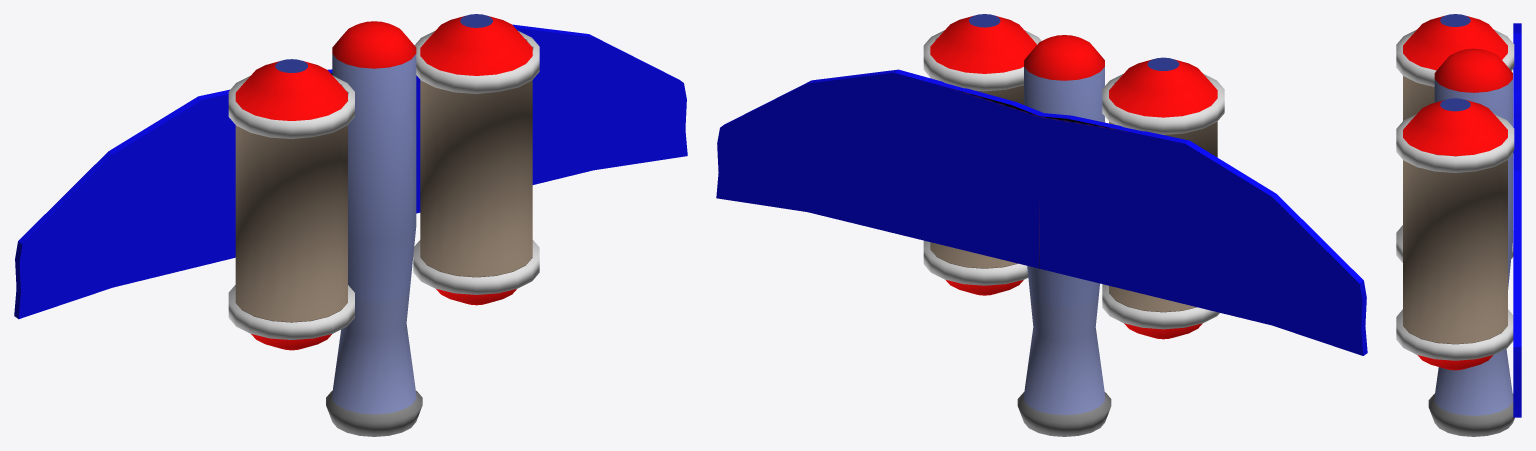
File: JetPack.FBX
3 views of the same model, side by side, from view 1: azimuth 30°, elevation 25°; view 2: azimuth 150°, elevation 25°; view 3: azimuth 270°, elevation 25° (orthographic). The views are drawn at different scales.
Parts seen in each view (by area): view 1: Principal; view 2: Principal; view 3: Principal.
Boxes of the visible parts, x1=… form: Principal: x1=14, y1=14, x2=687, y2=436; Principal: x1=716, y1=14, x2=1367, y2=436; Principal: x1=1396, y1=14, x2=1521, y2=436.
Bounding box in the file's own units: 181 × 102 × 31.47.
1 material, 1 textured.
